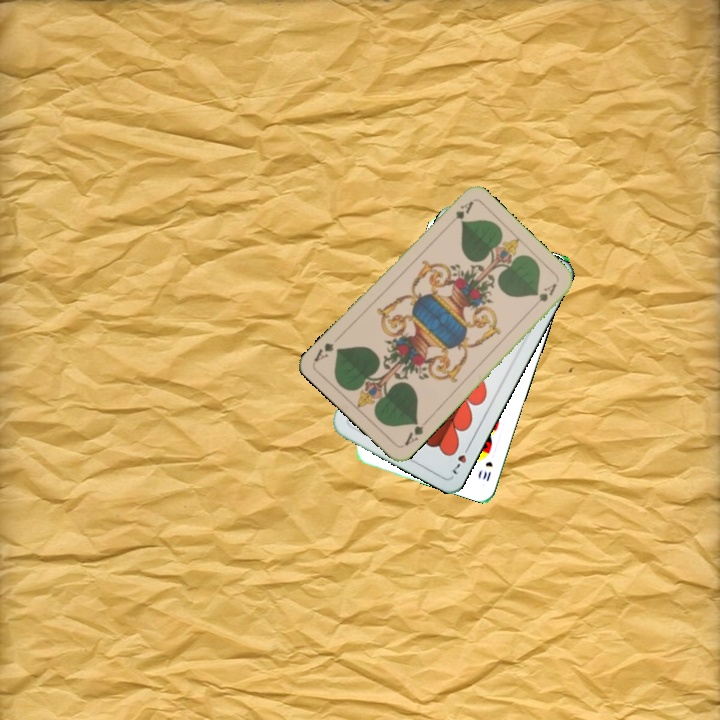GA: (400, 415, 431, 449), (451, 197, 476, 222)
H7: (448, 440, 473, 477)
S10: (478, 457, 495, 484)
